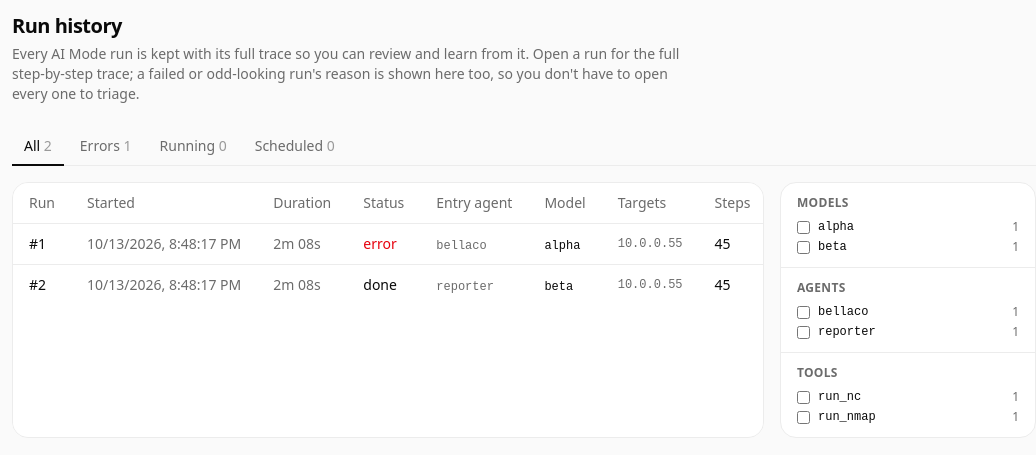
it: AiRunsPage filters › filters from the right-hand panel, shows removable chips, and clears
Expected: the link "#1" is shown, [29, 234, 46, 253]
Expected: the link "#2" is shown, [29, 275, 46, 294]
Click the checkbox labelled "run_nc 1": (804, 397) [797, 390, 810, 404]
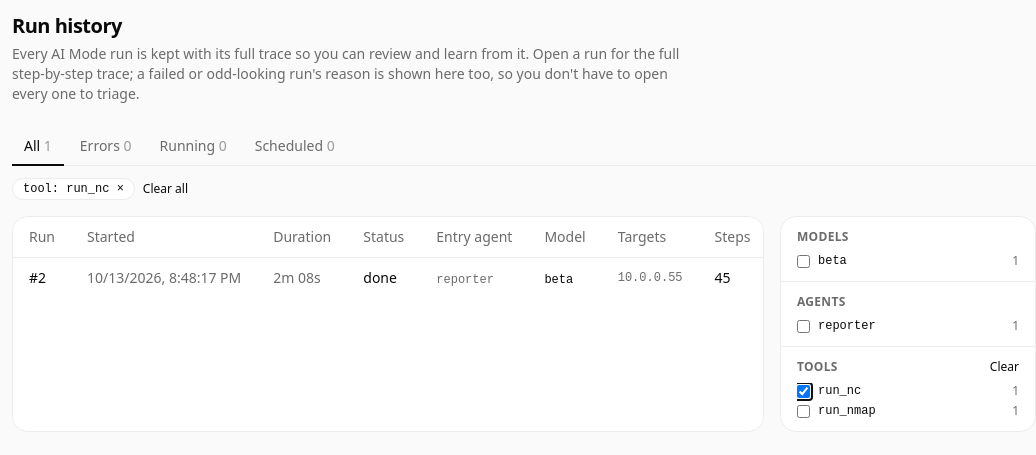
Expected: the link "#2" is shown, [29, 268, 46, 287]
Result: the link "#1" is gone
Click the button with aria-label "Remove tool filter run_nc": (73, 189) [12, 178, 135, 200]
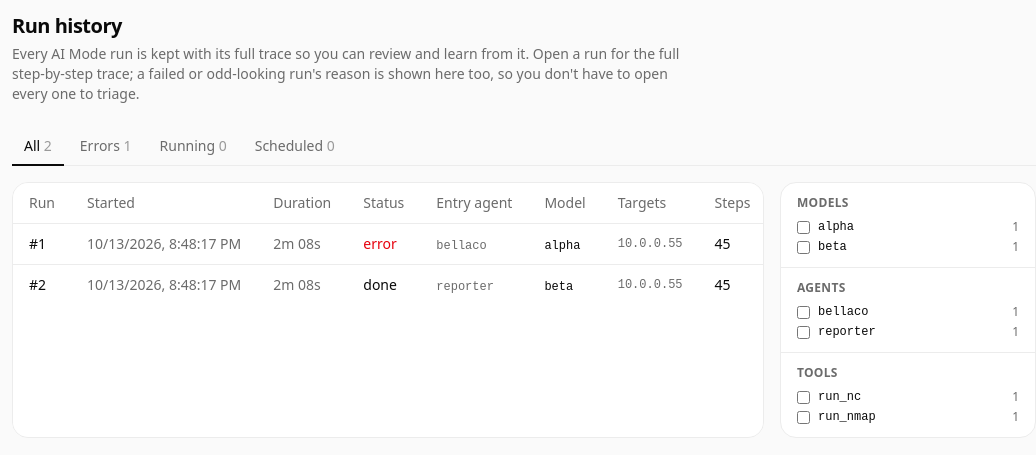
Result: the link "#1" is shown at [29, 234, 46, 253]
